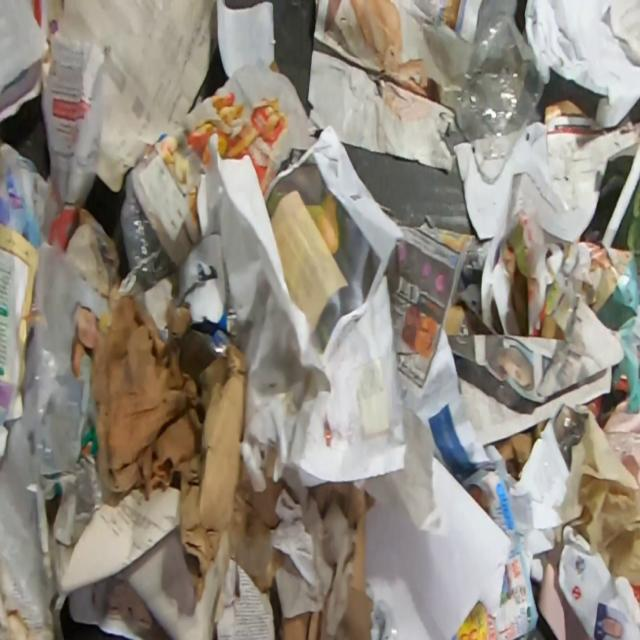cardboard: (88, 285, 250, 604), (276, 481, 376, 640), (226, 445, 299, 593), (490, 418, 548, 481)
metal: (192, 304, 238, 360)
rigid_plastic: (452, 9, 545, 162)
soft_plastic: (4, 239, 84, 485), (118, 167, 181, 310), (552, 403, 588, 470), (370, 598, 398, 640)
